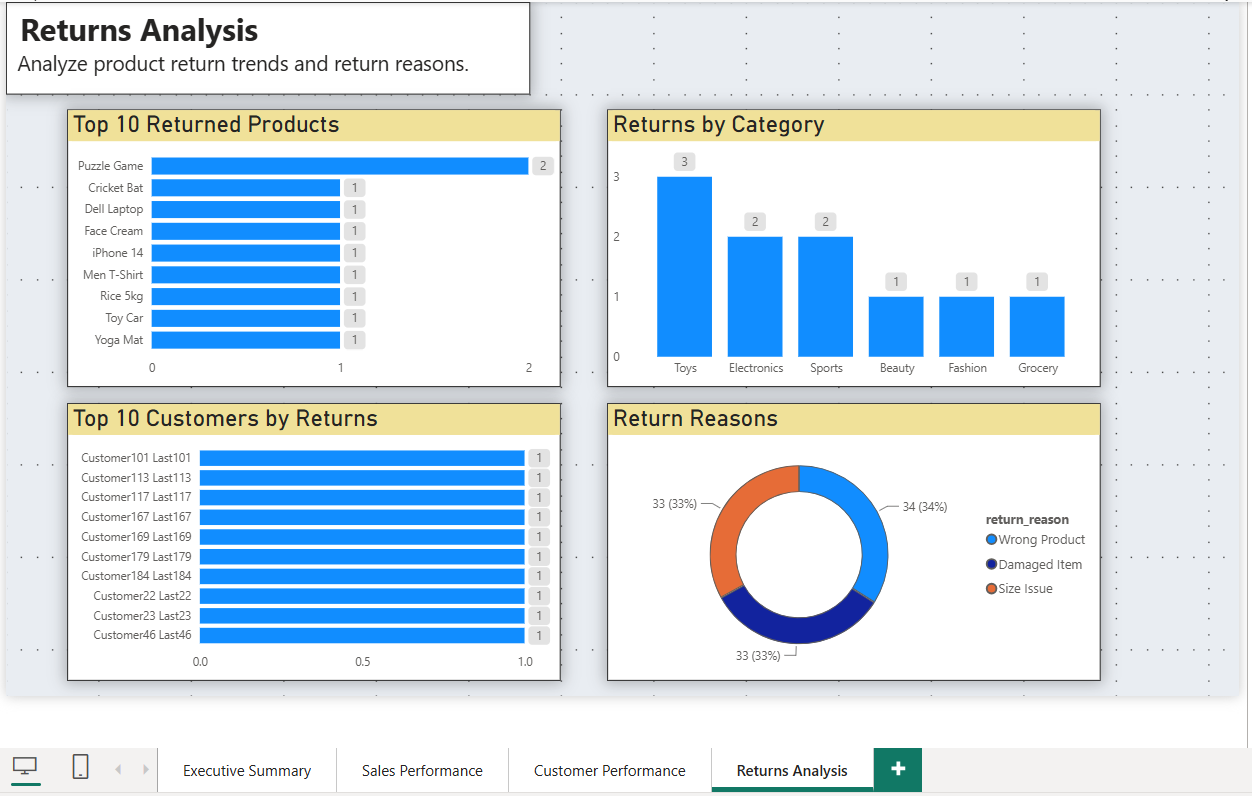

This screenshot's page, from the dashboard's own definition file:
{"tool":"powerbi","page":{"name":"Returns Analysis","canvas":[1280,720],"ordinal":3},"visuals":[{"type":"textbox","box":[0,0,544,96],"z":0},{"type":"barChart","title":"Top 10 Returned Products","fields":{"Category":["vw_product_return_analysis.product_name"],"Y":["Sum(vw_product_return_analysis.total_returns)"]},"box":[64,112,512,288],"z":1000},{"type":"clusteredColumnChart","title":"Returns by Category","fields":{"Category":["vw_category_return_analysis.category_name"],"Y":["Sum(vw_category_return_analysis.total_returns_per_category)"]},"box":[624,112,512,288],"z":2000},{"type":"donutChart","title":"Return Reasons","fields":{"Category":["vw_return_reason_analysis.return_reason"],"Y":["Sum(vw_return_reason_analysis.total_returns)"]},"box":[624,416,512,288],"z":3000},{"type":"barChart","title":"Top 10 Customers by Returns","fields":{"Category":["vw_return_details.customer_name"],"Y":["CountNonNull(vw_return_details.return_id)"]},"box":[64,416,512,288],"z":4000}]}

Visuals, with their boxes on the page's 1280x720 design canvas (x1, y1, x2, y2). These are canvas units, not pixel positions in the 1252x796 screenshot, which may show the page scaled, cropped or inside an application window:
textbox: bbox=[0, 0, 544, 96]
"Top 10 Returned Products" barChart: bbox=[64, 112, 576, 400]
"Returns by Category" clusteredColumnChart: bbox=[624, 112, 1136, 400]
"Return Reasons" donutChart: bbox=[624, 416, 1136, 704]
"Top 10 Customers by Returns" barChart: bbox=[64, 416, 576, 704]
